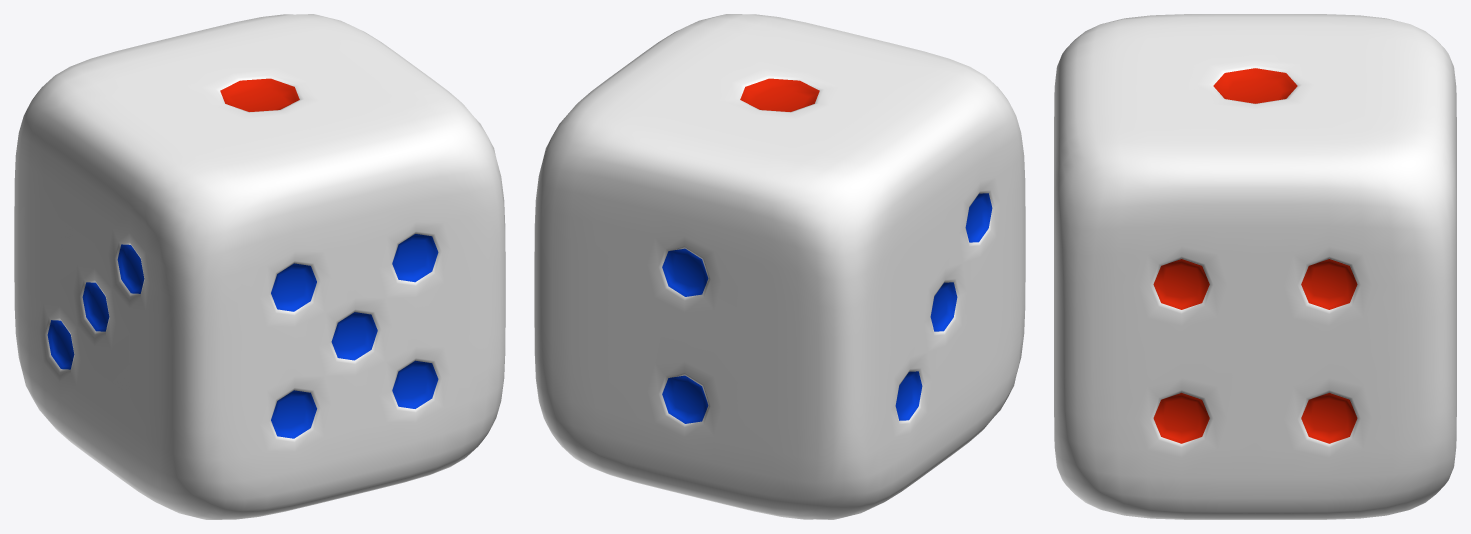
File: Dice export 3.fbx
The picture shows the model from 3 angles, left to right: view 1: azimuth 30°, elevation 25°; view 2: azimuth 150°, elevation 25°; view 3: azimuth 270°, elevation 25°; orthographic projection. The views are drawn at different scales.
Visible parts, largest first — view 1: Cube; view 2: Cube; view 3: Cube.
Part boxes in pixels (x1,y1,x2,y2): Cube: (14,14,505,519); Cube: (534,14,1025,519); Cube: (1054,14,1456,519).
Size of the model in its own units: 0.02 by 0.02 by 0.02.
Materials: 1 (1 with a texture image).
